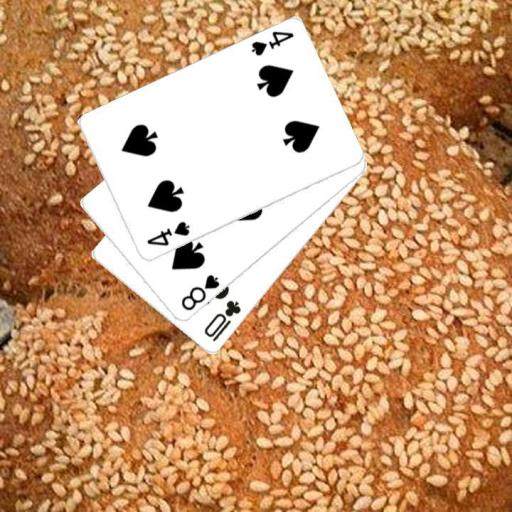10C: (201, 298, 243, 344)
4S: (143, 218, 191, 248), (248, 29, 295, 59)
8S: (178, 272, 221, 313)
